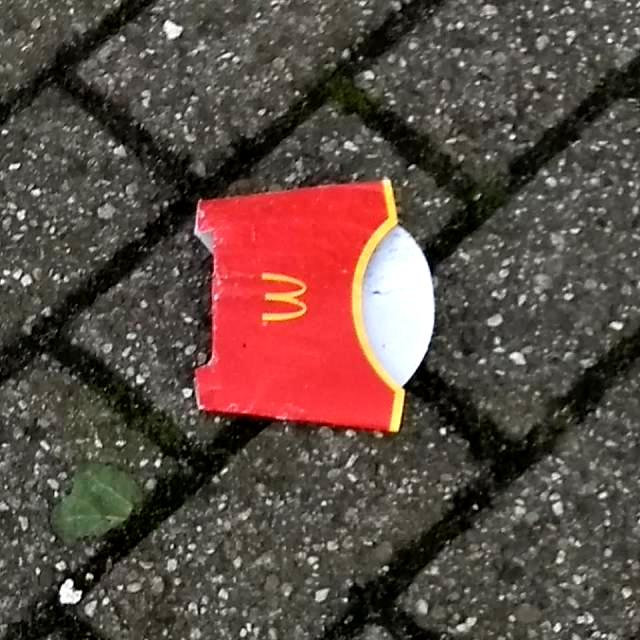Paper: (190, 174, 436, 436)
